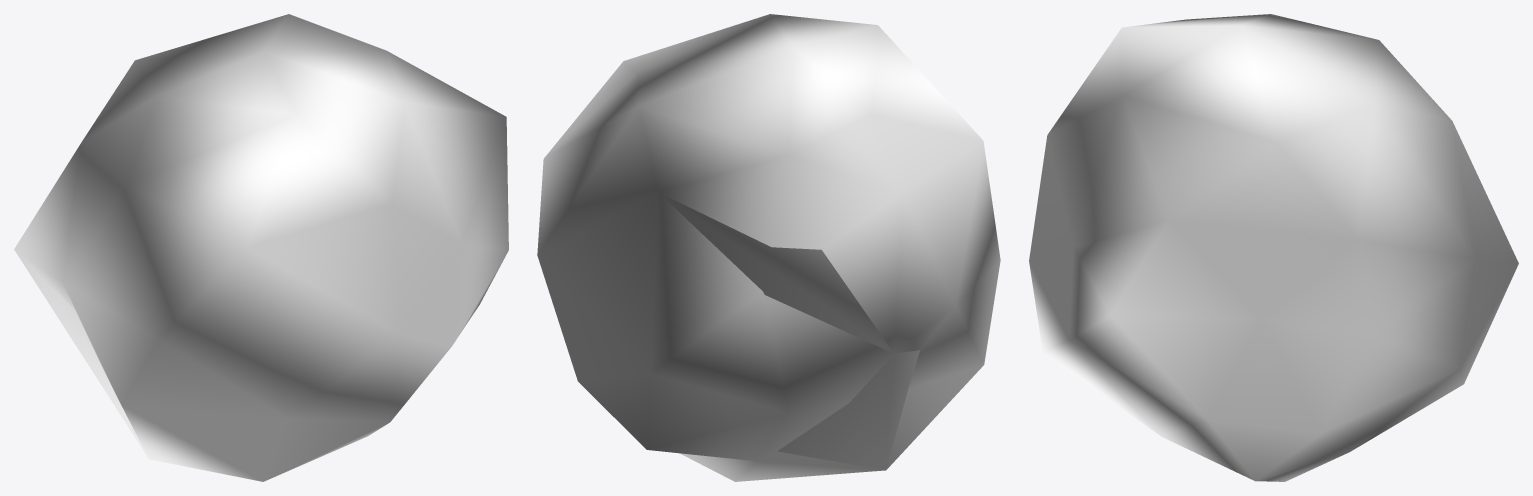
File: SM_Bush_Round.glb
The picture shows the model from 3 angles, left to right: view 1: azimuth 30°, elevation 25°; view 2: azimuth 150°, elevation 25°; view 3: azimuth 270°, elevation 25°; orthographic projection. The views are drawn at different scales.
Visible parts, largest first — view 1: asset_bush_round; view 2: asset_bush_round; view 3: asset_bush_round.
Boxes of the visible parts, x1=… form: asset_bush_round: x1=14, y1=14, x2=508, y2=481; asset_bush_round: x1=537, y1=14, x2=1000, y2=481; asset_bush_round: x1=1029, y1=14, x2=1518, y2=481.
Size of the model in its own units: 0.9535 by 1.01 by 1.02.
1 material, 1 textured.
